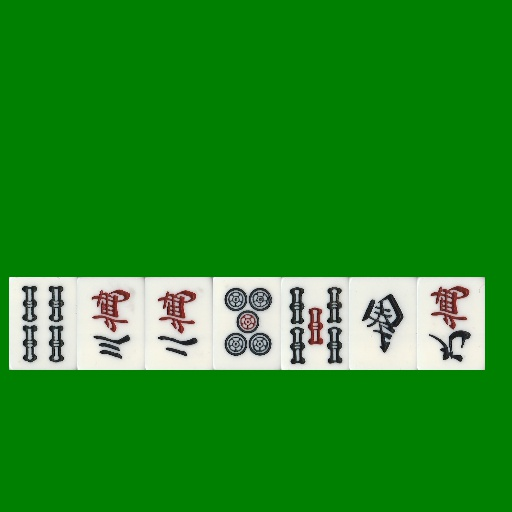2m: (145, 277, 213, 370)
3m: (77, 277, 145, 370)
4s: (9, 277, 77, 370)
5p: (213, 277, 281, 370)
5s: (281, 277, 349, 370)
9m: (417, 277, 485, 370)
south: (349, 277, 417, 370)
